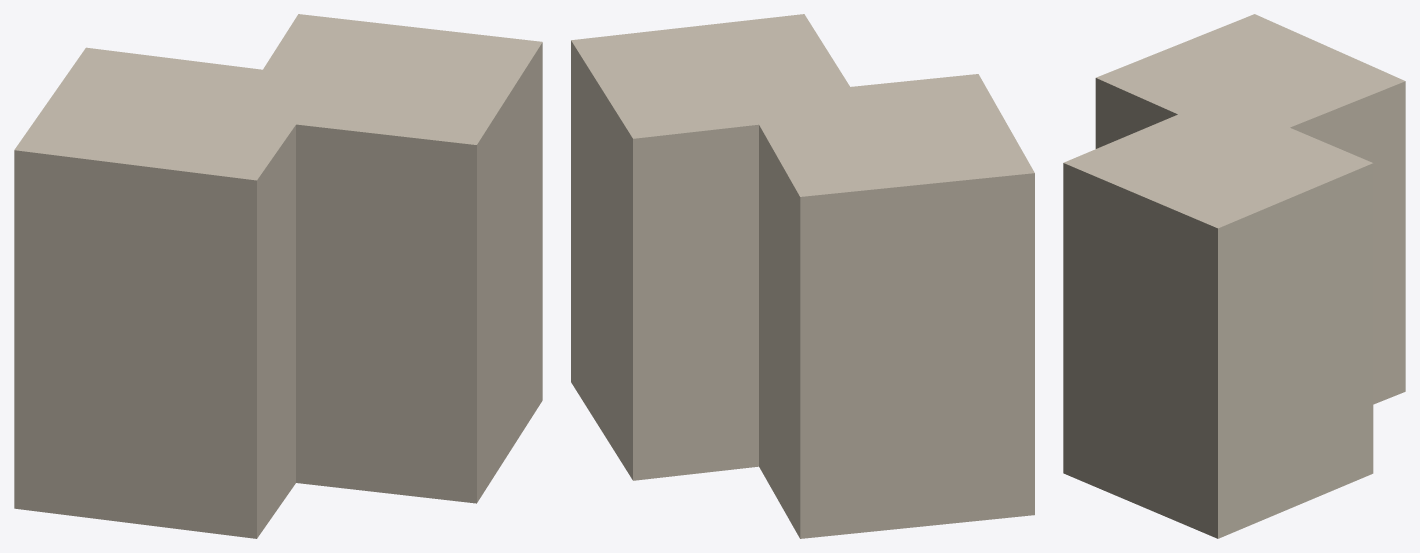
3 views of the same model, side by side, from view 1: azimuth 30°, elevation 25°; view 2: azimuth 150°, elevation 25°; view 3: azimuth 270°, elevation 25° (orthographic). The views are drawn at different scales.
Visible parts, largest first — view 1: estructura_arquitectura; view 2: estructura_arquitectura; view 3: estructura_arquitectura.
Part boxes in pixels (<box>): estructura_arquitectura: <box>14,14,542,538</box>; estructura_arquitectura: <box>571,14,1034,538</box>; estructura_arquitectura: <box>1063,14,1405,538</box>.
Size of the model in its own units: 0.7408 by 0.5 by 0.4997.
